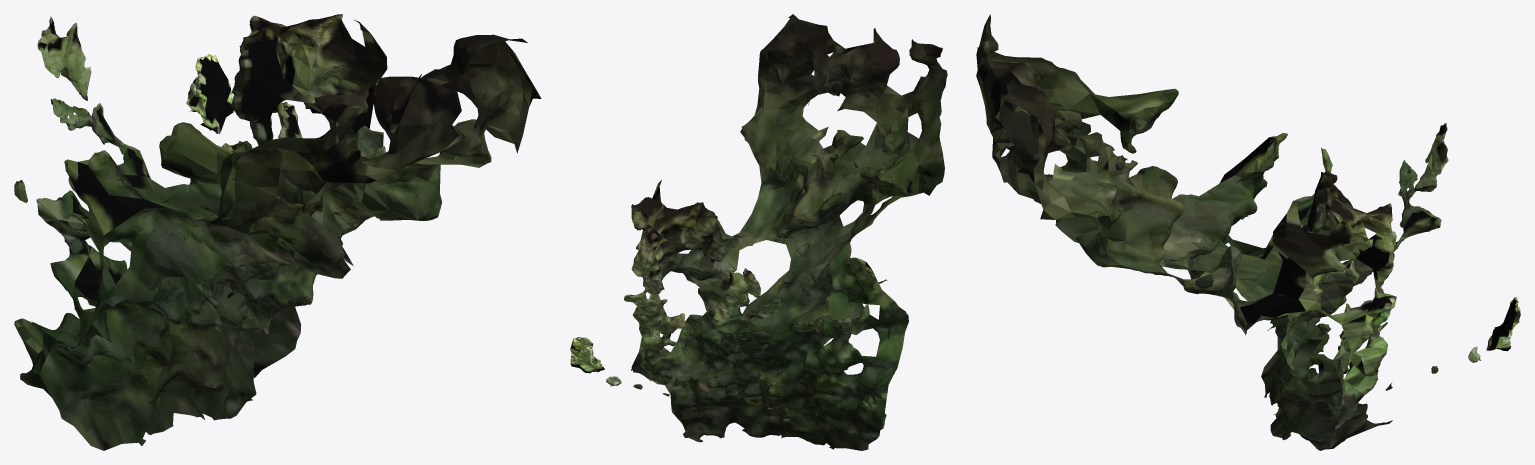
File: texturedMesh.obj
3 views of the same model, side by side, from view 1: azimuth 30°, elevation 25°; view 2: azimuth 150°, elevation 25°; view 3: azimuth 270°, elevation 25° (orthographic). The views are drawn at different scales.
Parts seen in each view (by area): view 1: TexturedMesh; view 2: TexturedMesh; view 3: TexturedMesh.
Boxes of the visible parts, x1,y1,x2,y2 form: TexturedMesh: (14,14,541,450); TexturedMesh: (570,14,947,450); TexturedMesh: (976,14,1520,450).
Size of the model in its own units: 3.3 by 4.2 by 5.35.
1 material, 1 textured.
